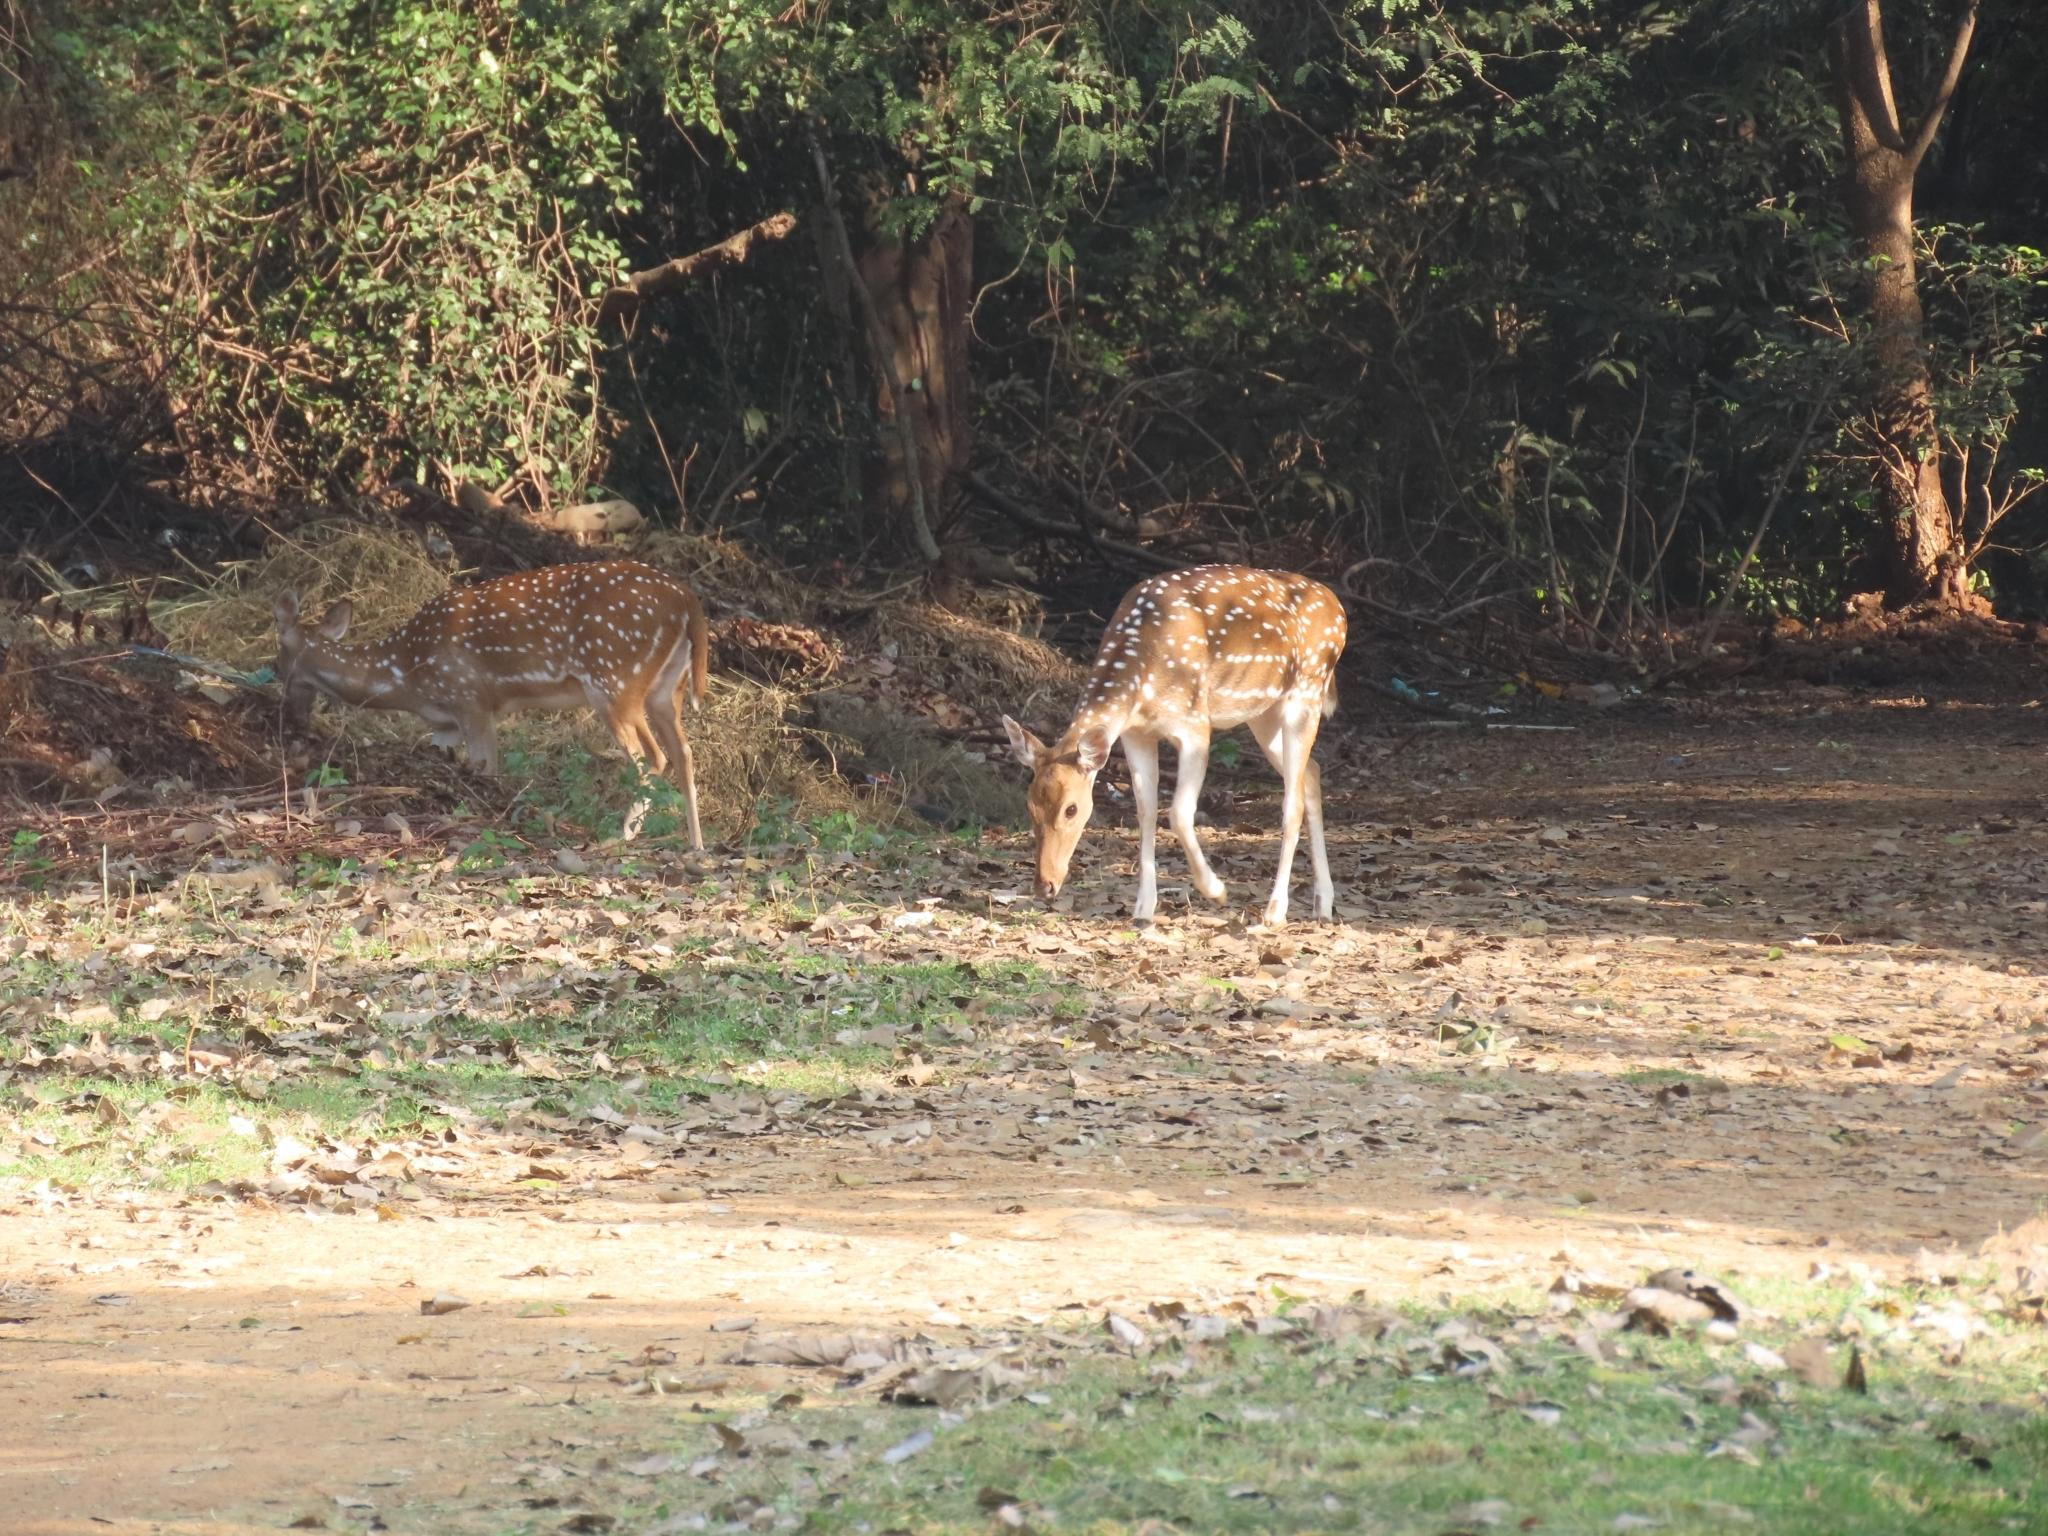Deer: (274, 561, 710, 854), (1003, 565, 1347, 925)
